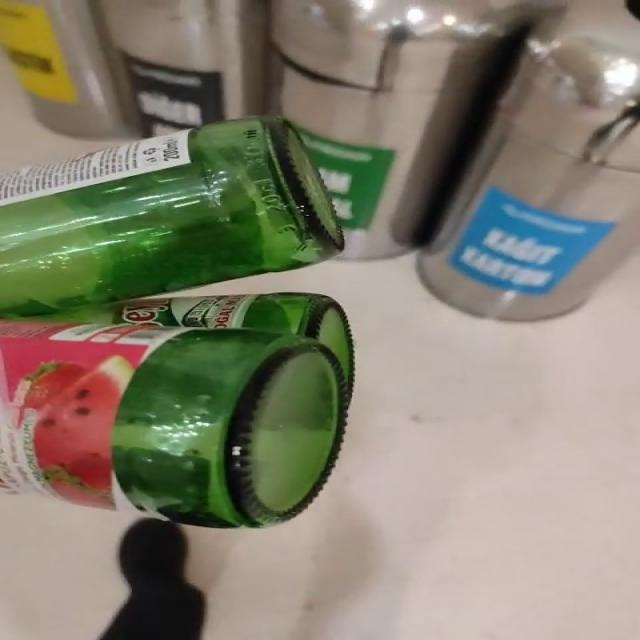bin: (0, 0, 640, 320)
glass: (1, 116, 353, 528)
